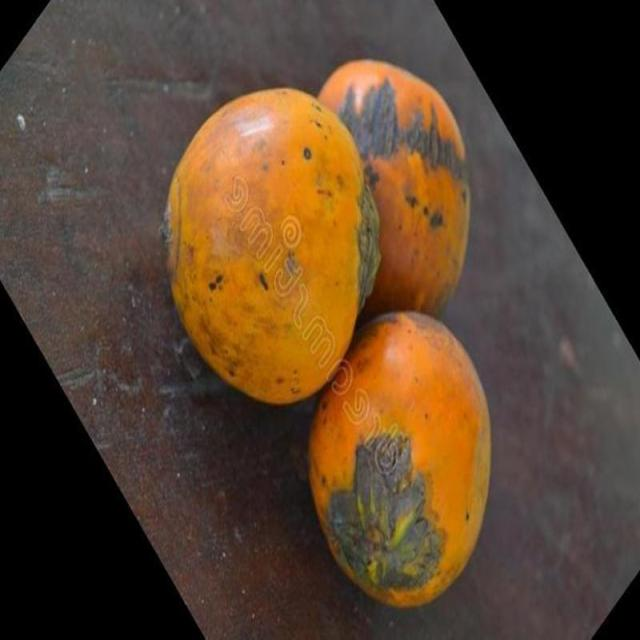good: (165, 89, 382, 407), (306, 312, 492, 611), (317, 63, 471, 324)
